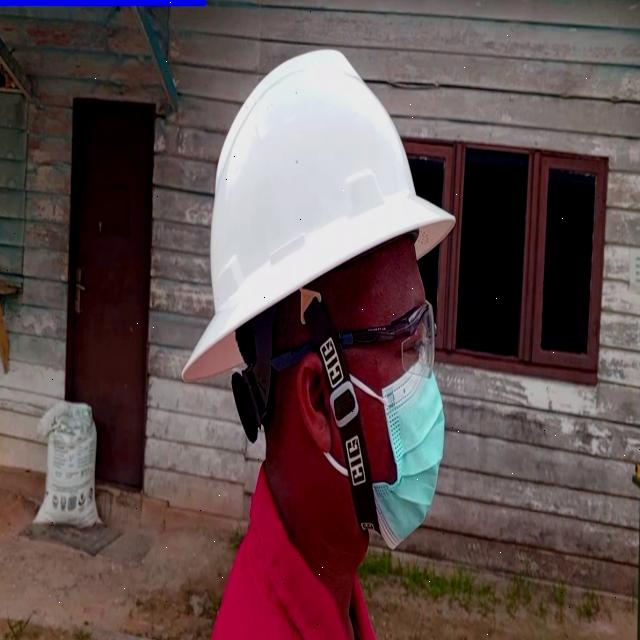Hardhat: (180, 44, 458, 388)
Mask: (373, 365, 445, 549)
Strapped: (298, 283, 379, 543)
